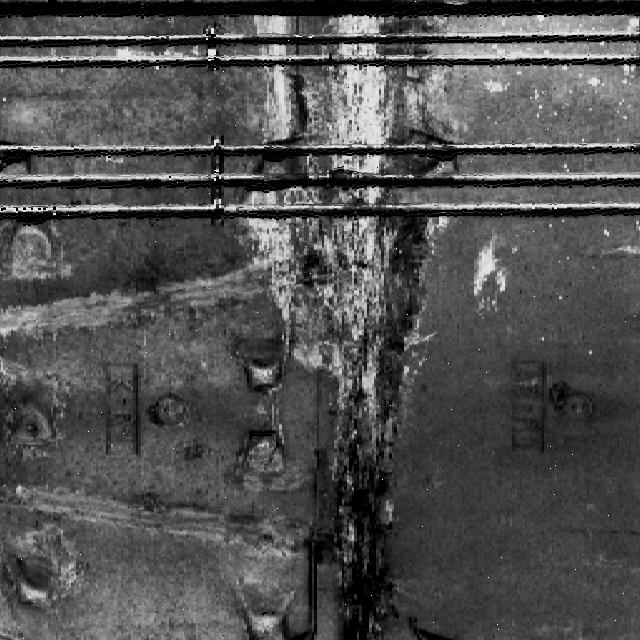leakage: (243, 3, 467, 640)
